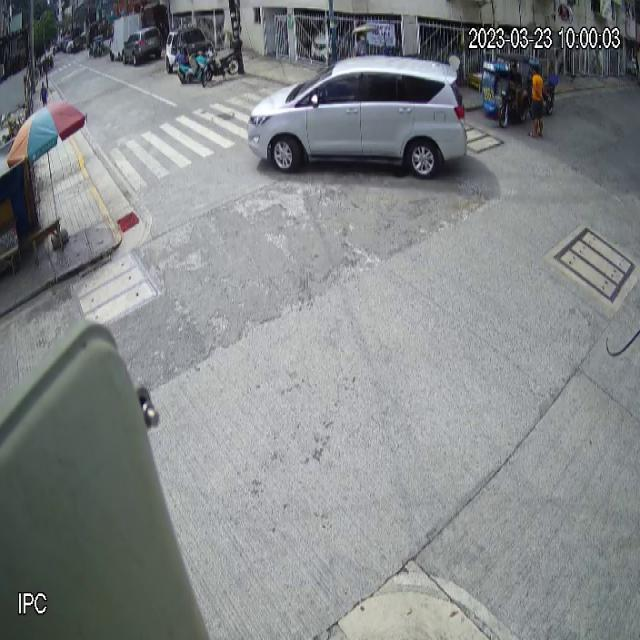Car: (246, 52, 469, 180)
Tricycle: (482, 52, 529, 130)
